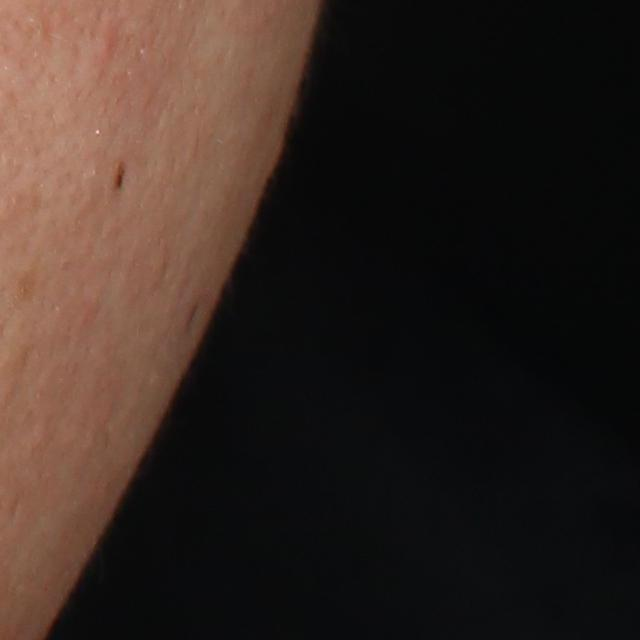nevus: (113, 160, 127, 192)
